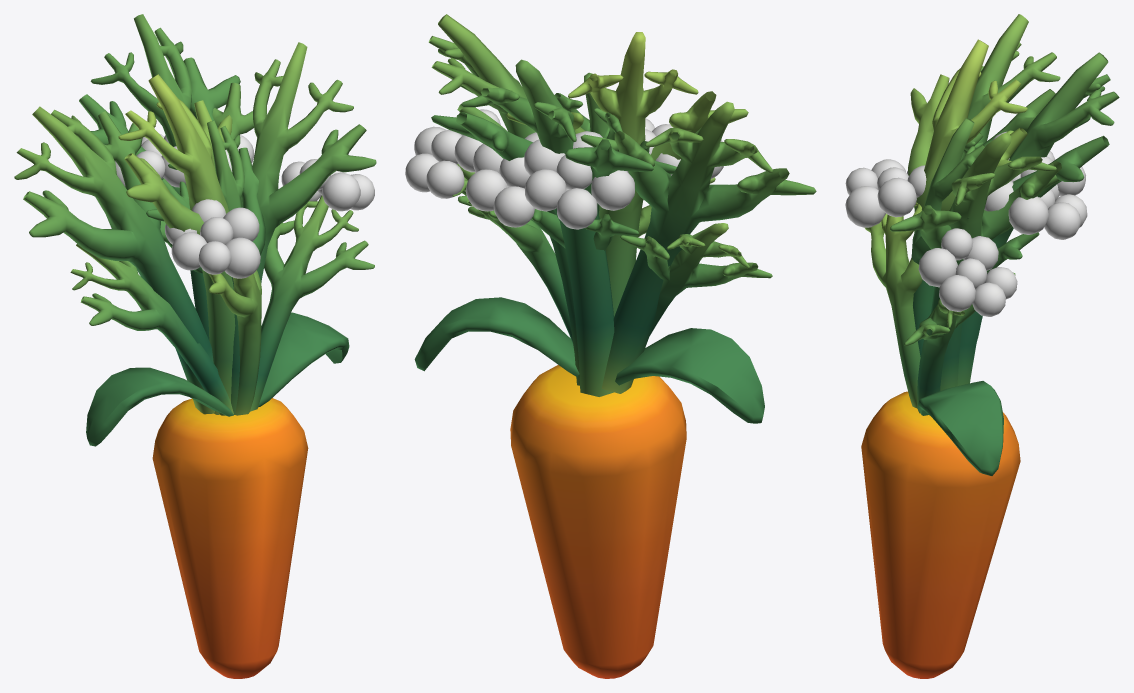
File: Carrot.fbx
3 renders of one model, left to right at view 1: azimuth 30°, elevation 25°; view 2: azimuth 150°, elevation 25°; view 3: azimuth 270°, elevation 25°, orthographic. The views are drawn at different scales.
Visible parts, largest first — view 1: LV3C, LV2C, LV1C; view 2: LV3C, LV2C, LV1C; view 3: LV3C, LV2C, LV1C.
Boxes of the visible parts, <box> form: LV3C: <box>14,14,376,678</box>; LV2C: <box>70,133,374,415</box>; LV1C: <box>86,120,349,446</box>; LV3C: <box>428,14,816,678</box>; LV2C: <box>405,109,772,344</box>; LV1C: <box>414,72,764,423</box>; LV3C: <box>861,14,1119,678</box>; LV2C: <box>845,131,1087,415</box>; LV1C: <box>911,118,1003,475</box>.
Size of the model in its own units: 0.5181 by 0.8603 by 0.3479.
